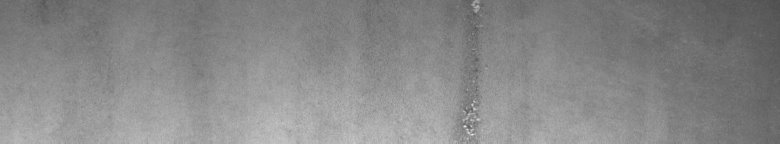hc: (460, 4, 488, 136)
